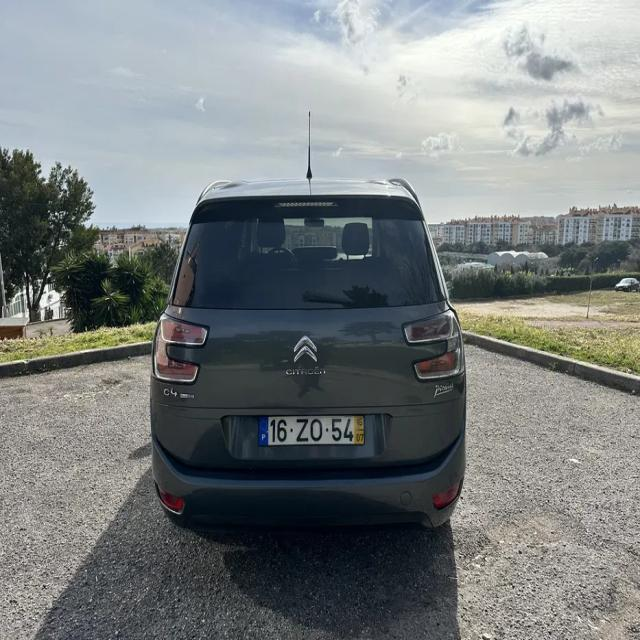portuguese-license-plates: (256, 412, 366, 449)
